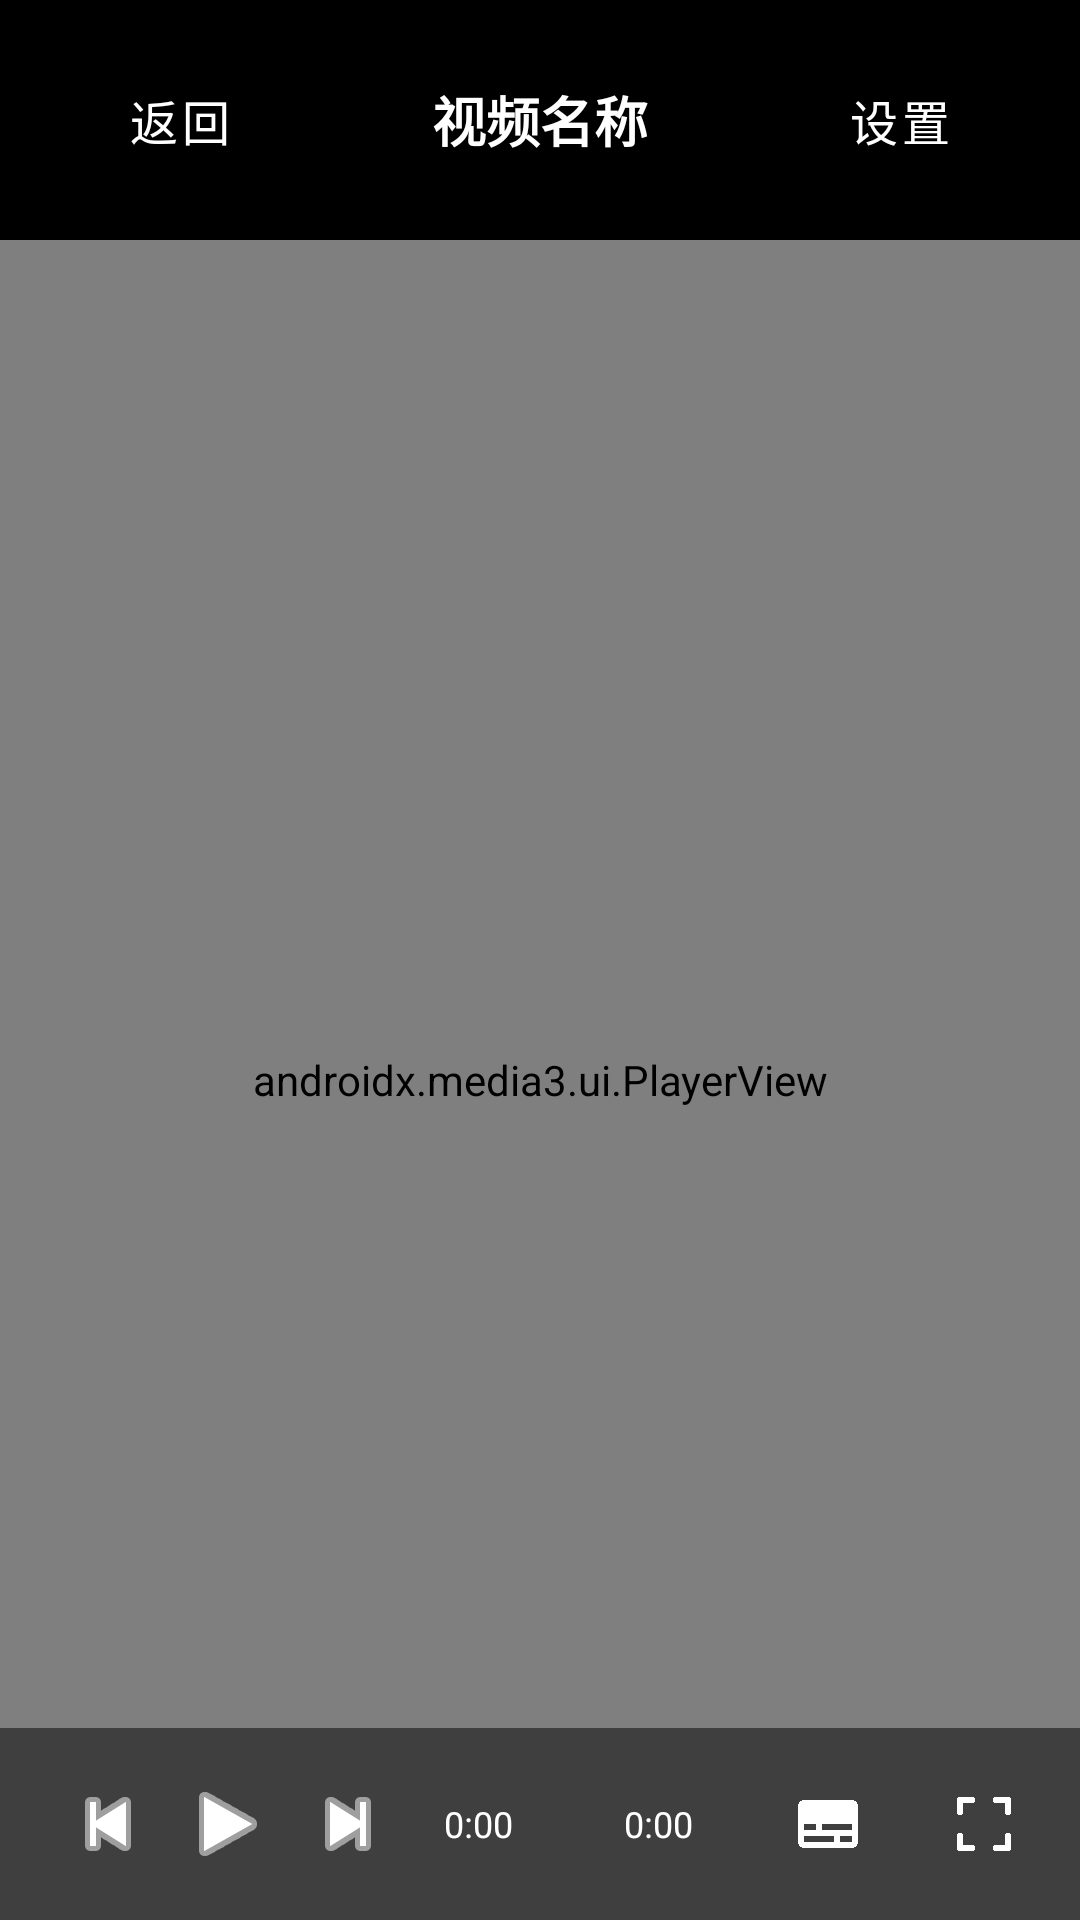

Icons on this 1080px×1920px Android screen, each with the point to tap as point (x, y):
上一个: point (108, 1824)
下一个: point (348, 1824)
全屏: point (984, 1824)
字幕: point (828, 1824)
播放/暂停: point (228, 1824)
